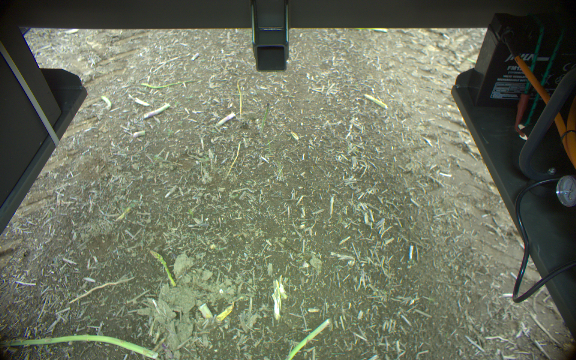aspa: (4, 332, 159, 359), (282, 317, 331, 360), (148, 249, 175, 287), (256, 102, 274, 136)
